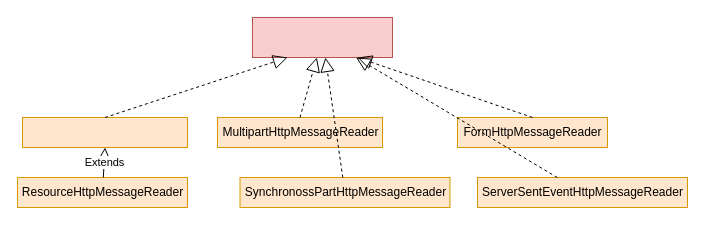
This 705x225 diagram has some shape labels left out. The shapes that lost their labels are listed below. From the top down, each one's centre as x and y in pixels, then its label:
At point (322, 37): "«interface» HttpMessageReader".
At point (105, 132): "DecoderHttpMessageReader".
